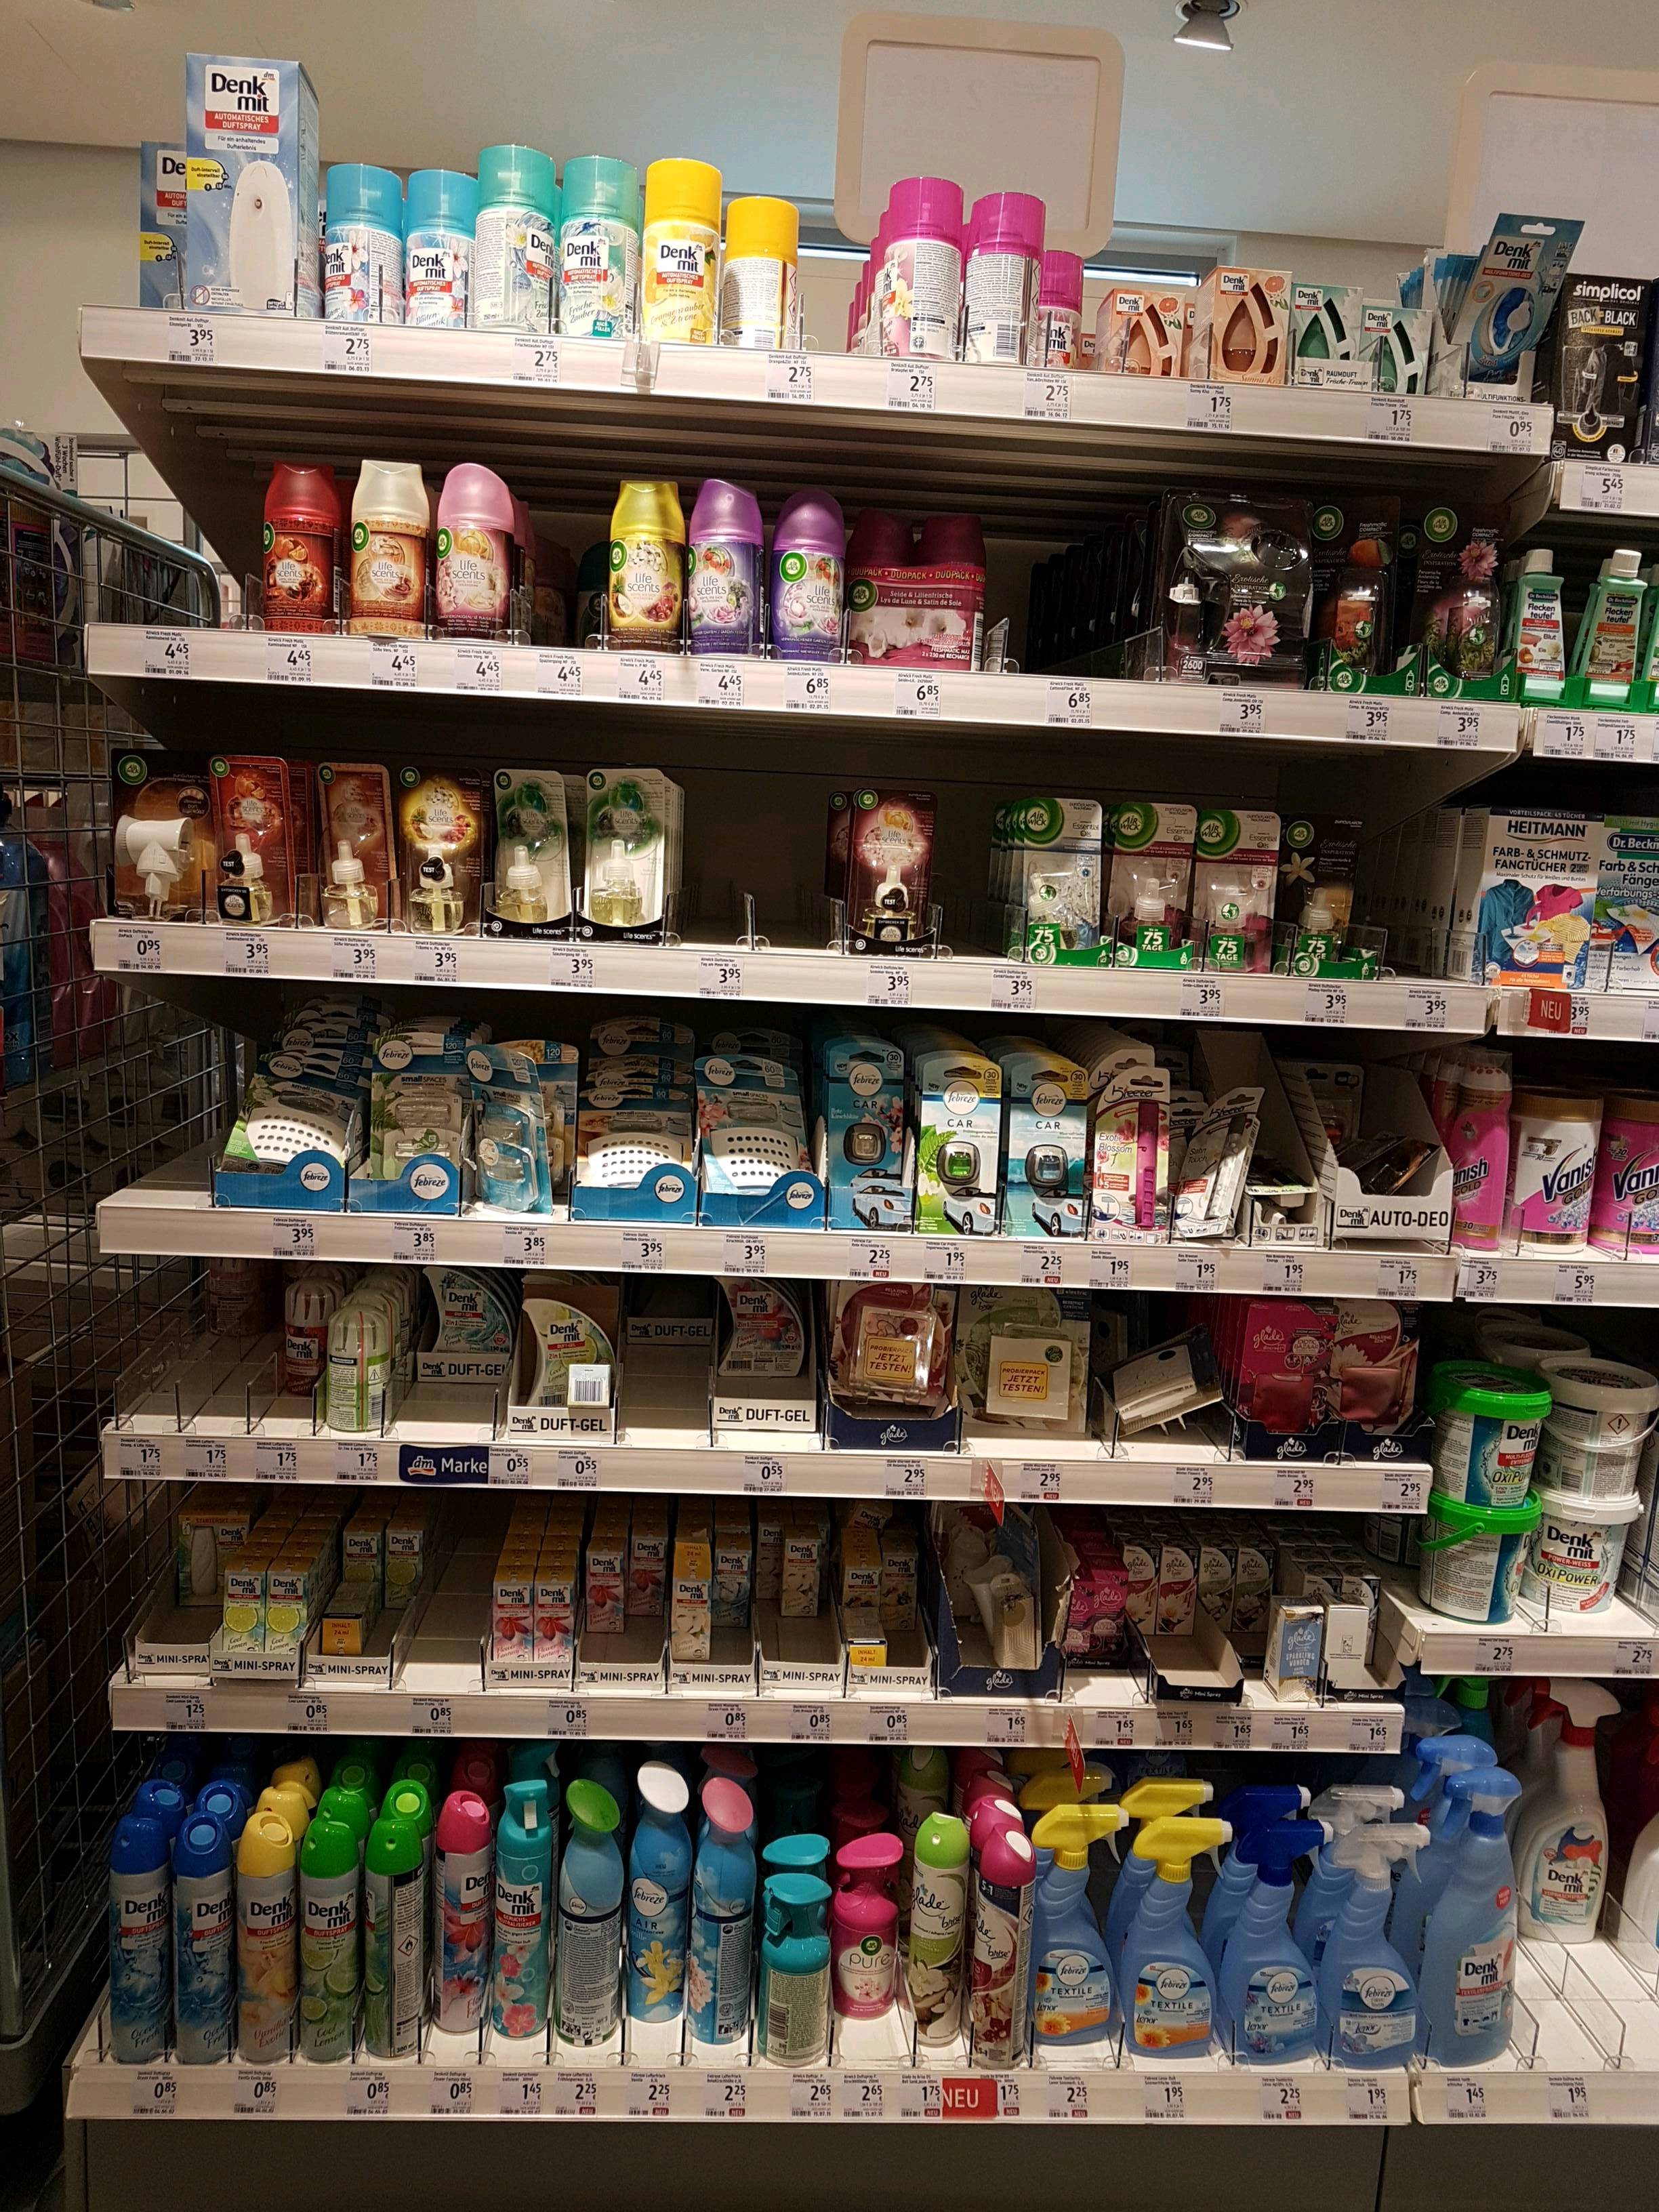Misplacement: (579, 1500, 669, 1689)
Out-of-stock: (753, 740, 838, 949)
